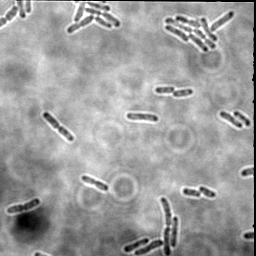Dividing: (41, 110, 75, 143), (159, 196, 172, 256), (5, 197, 43, 216), (134, 239, 164, 256), (81, 174, 109, 192)
Microcolony: (163, 10, 235, 54), (65, 1, 121, 35)
Rod: (218, 109, 244, 130), (122, 236, 150, 254), (125, 111, 160, 123), (232, 110, 252, 128), (169, 216, 179, 248), (198, 184, 217, 199), (173, 86, 194, 99), (181, 186, 202, 198), (154, 85, 175, 96)
